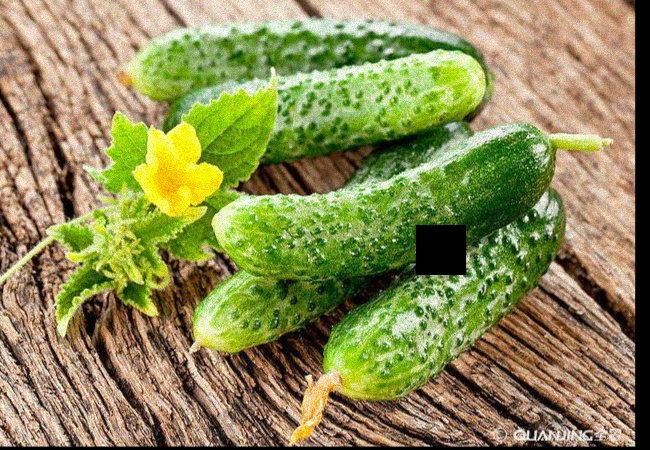cucumber: (338, 185, 562, 389), (219, 133, 547, 272)
cucumber_plant: (62, 69, 273, 309)
